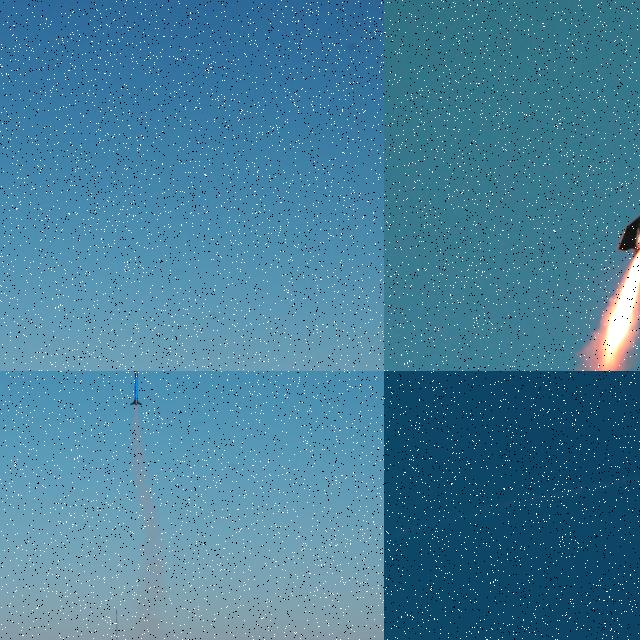Rocket: (616, 117, 640, 260), (130, 371, 142, 406)
